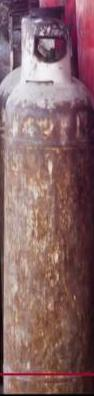cylinder: (0, 1, 94, 396)
